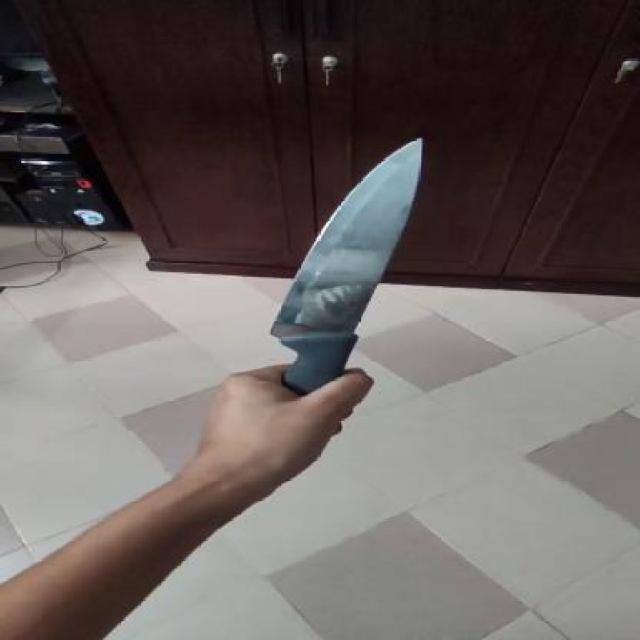knife: (286, 137, 437, 369)
